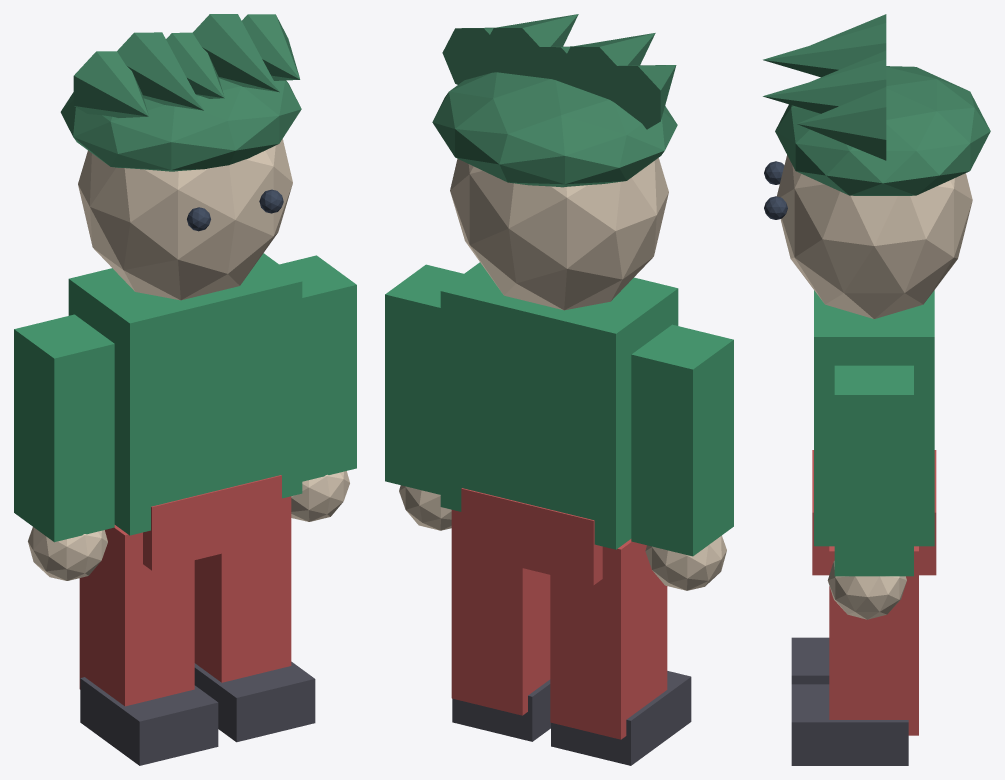
File: deku.glb
3 views of the same model, side by side, from view 1: azimuth 30°, elevation 25°; view 2: azimuth 150°, elevation 25°; view 3: azimuth 270°, elevation 25° (orthographic). The views are drawn at different scales.
Visible parts, largest first — view 1: part_000, part_010, part_002, part_004, part_013, part_008, part_006, part_001, part_005, part_009, part_014, part_015 (+5 smaller); view 2: part_000, part_010, part_002, part_013, part_004, part_008, part_006, part_001, part_005, part_015, part_014, part_017 (+5 smaller); view 3: part_010, part_006, part_013, part_000, part_008, part_009, part_018, part_015, part_017, part_007, part_005, part_001 (+1 smaller).
Part boxes in pixels (box(x1,y1,x2,y2)): part_000: box(68, 253, 302, 535); part_010: box(78, 139, 292, 300); part_002: box(14, 314, 114, 542); part_004: box(79, 525, 194, 706); part_013: box(60, 78, 301, 171); part_008: box(194, 496, 291, 682); part_006: box(279, 255, 356, 481); part_001: box(143, 475, 281, 570); part_005: box(80, 677, 218, 765); part_009: box(194, 661, 315, 742); part_014: box(73, 51, 148, 117); part_015: box(117, 32, 203, 110); part_000: box(440, 262, 678, 549); part_010: box(450, 158, 668, 310); part_002: box(631, 324, 733, 556); part_013: box(432, 72, 677, 187); part_004: box(550, 539, 667, 739); part_008: box(451, 510, 550, 715); part_006: box(385, 264, 463, 494); part_001: box(461, 488, 602, 585); part_005: box(551, 671, 691, 765); part_015: box(558, 33, 655, 103); part_014: box(596, 65, 676, 129); part_017: box(481, 14, 578, 77); part_010: box(777, 155, 972, 319); part_006: box(834, 365, 913, 576); part_013: box(775, 66, 990, 195); part_000: box(814, 290, 934, 546); part_008: box(829, 546, 918, 735); part_009: box(791, 684, 908, 765); part_018: box(797, 87, 886, 160); part_015: box(763, 23, 886, 77); part_017: box(763, 59, 886, 113); part_007: box(827, 561, 906, 619); part_005: box(791, 637, 829, 684); part_001: box(812, 450, 936, 575).
Size of the model in its own units: 1.03 by 2.17 by 0.6628.
